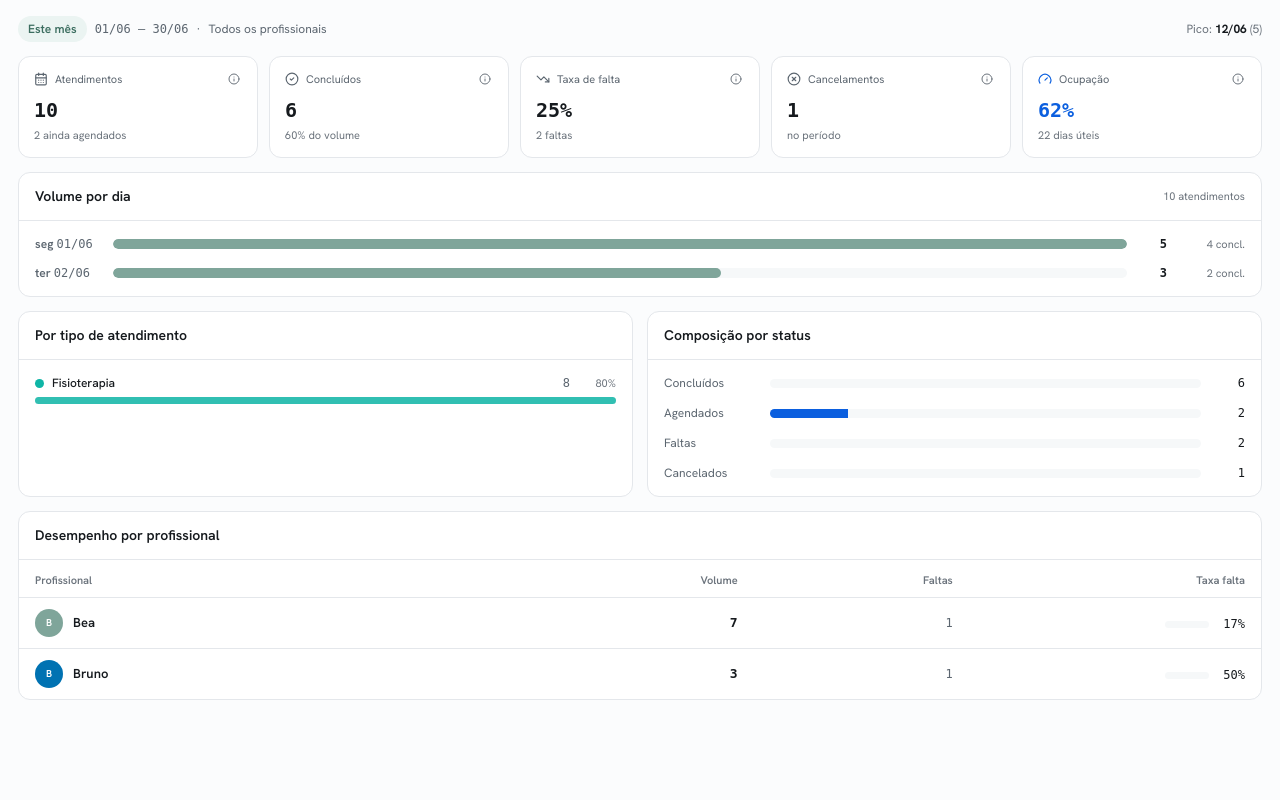
Scenario: Relatórios — render › a fórmula de cada KPI está na tela › taxa de falta abre o diálogo dizendo que o denominador são as sessões fechadas
Click the button named "como taxa de falta é calculad" at (736, 79), box x1=724 y1=67 x2=748 y2=91
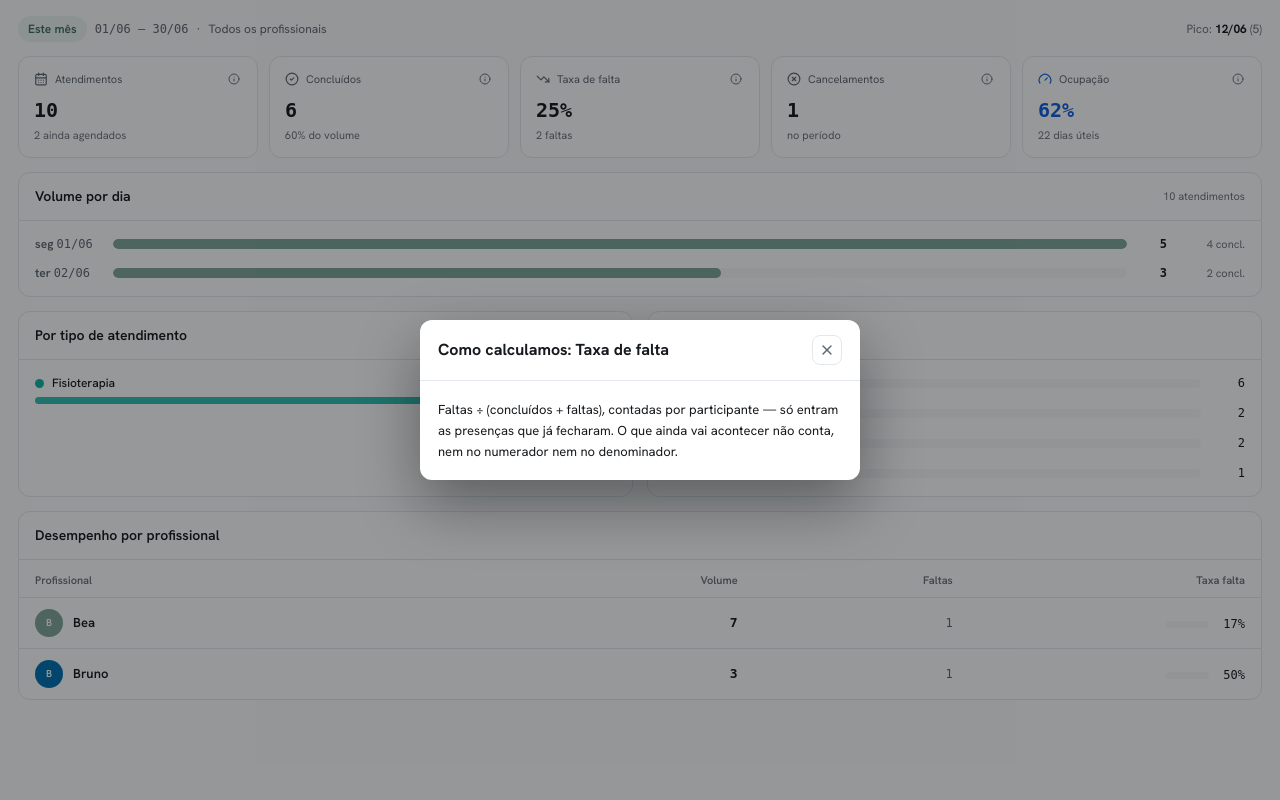
Result: the dialog shows "Faltas ÷ (concluídos + faltas)" at x1=438 y1=401 x2=838 y2=460
Result: the dialog shows "já fecharam" at x1=438 y1=401 x2=838 y2=460
